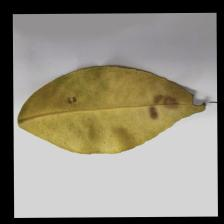canker: (55, 86, 211, 129)
